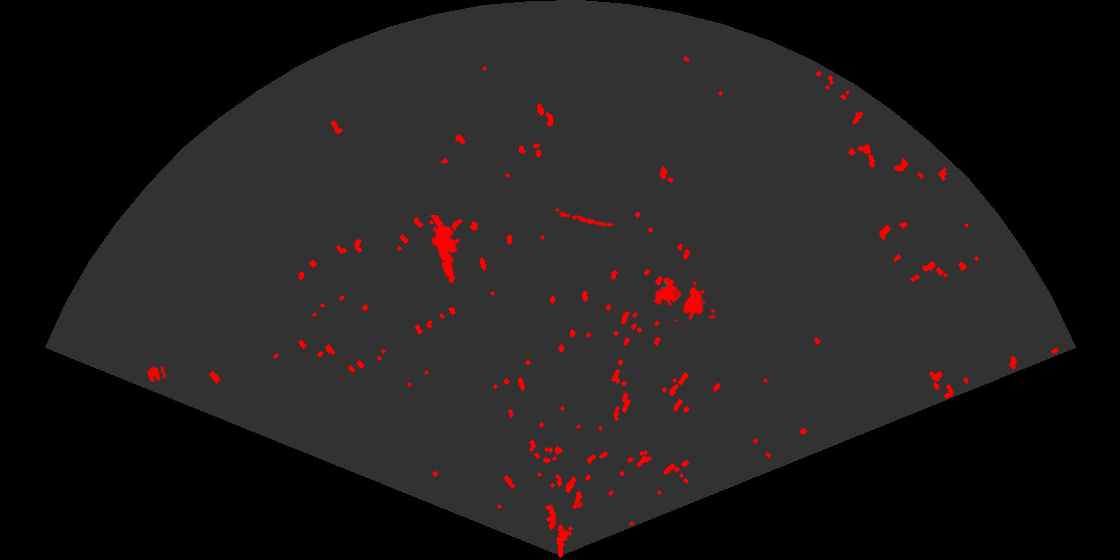ball: (146, 364, 168, 384)
cage: (652, 276, 715, 321)
chain: (556, 209, 615, 228)
frogman: (428, 215, 462, 285)
